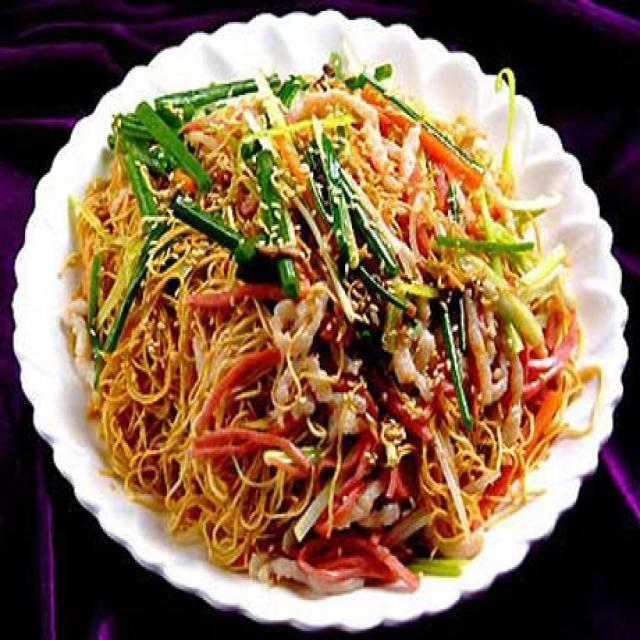面条主食: (34, 35, 614, 607)
